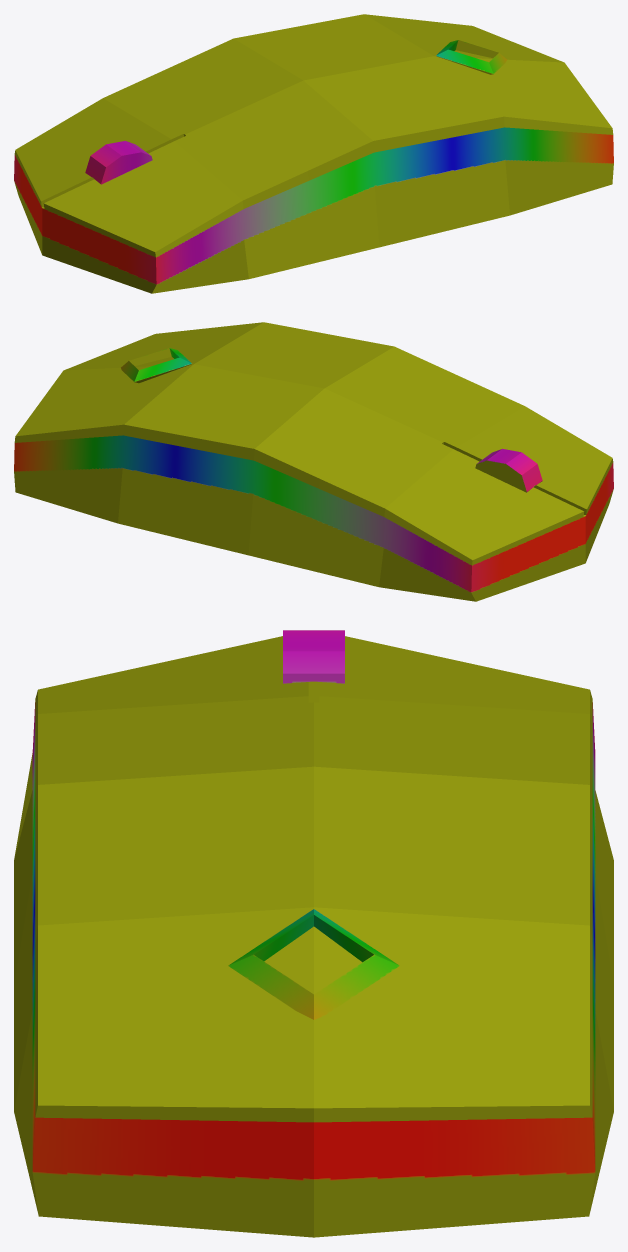
File: mouseGold.fbx
3 renders of one model, top to bottom at view 1: azimuth 30°, elevation 25°; view 2: azimuth 150°, elevation 25°; view 3: azimuth 270°, elevation 25°, orthographic. The views are drawn at different scales.
Visible parts, largest first — view 1: Mouse; view 2: Mouse; view 3: Mouse.
Boxes of the visible parts, left/top/right/bottom form: Mouse: left=14, top=14, right=613, bottom=293; Mouse: left=14, top=322, right=613, bottom=601; Mouse: left=14, top=630, right=613, bottom=1237.
Size of the model in its own units: 2.3 by 1.16 by 0.4683.
